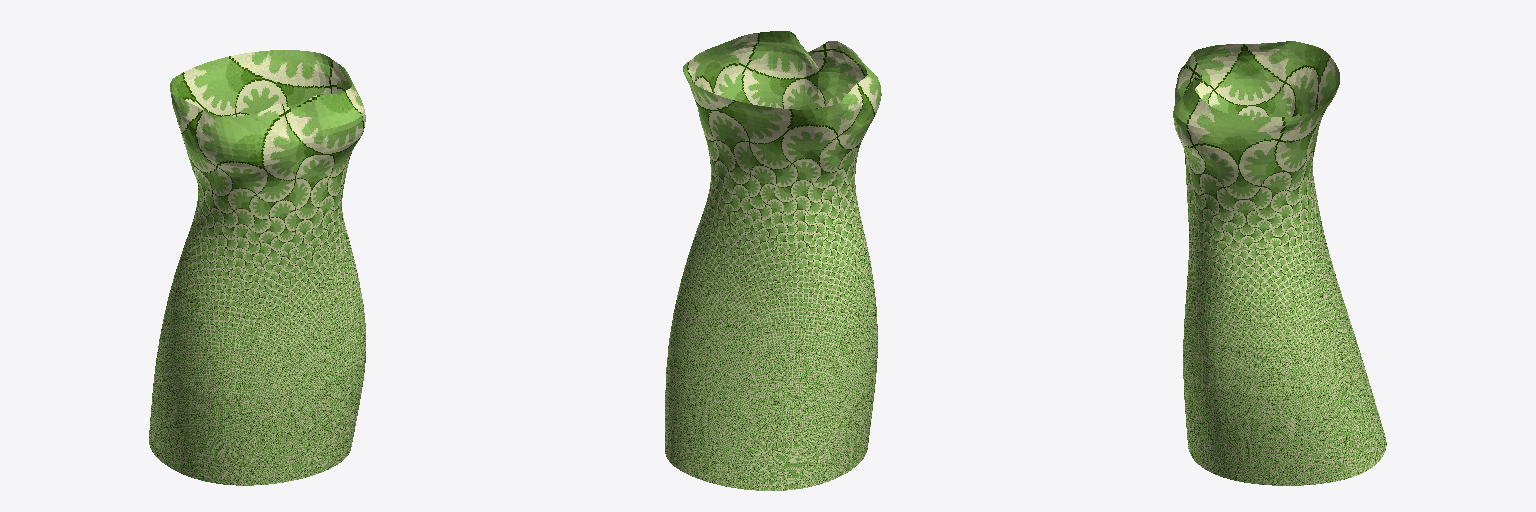
The picture shows the model from 3 angles: view 1: azimuth 30°, elevation 25°; view 2: azimuth 150°, elevation 25°; view 3: azimuth 270°, elevation 25°; orthographic projection.
Parts seen in each view (by area): view 1: Dress_Form.001; view 2: Dress_Form.001; view 3: Dress_Form.001.
Boxes of the visible parts, x1=… form: Dress_Form.001: x1=149, y1=50, x2=365, y2=485; Dress_Form.001: x1=665, y1=31, x2=881, y2=490; Dress_Form.001: x1=1173, y1=41, x2=1386, y2=485.
Bounding box in the file's own units: 0.2536 × 0.4956 × 0.2535.
Materials: 1 (1 with a texture image).